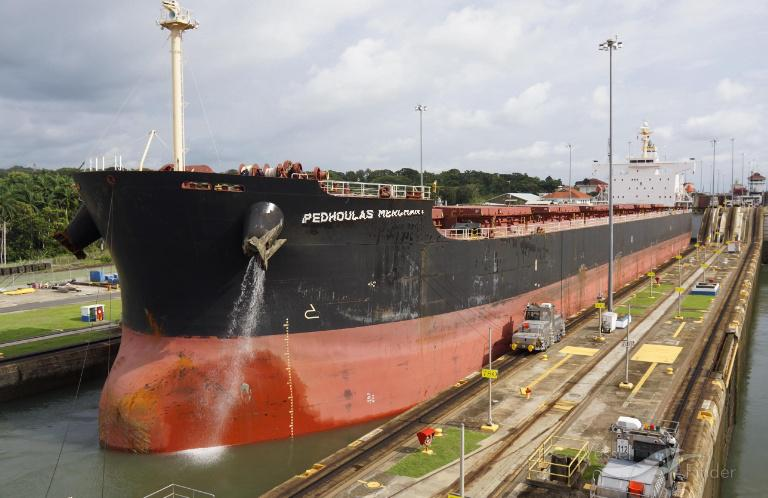OCR: (302, 210, 428, 238)
